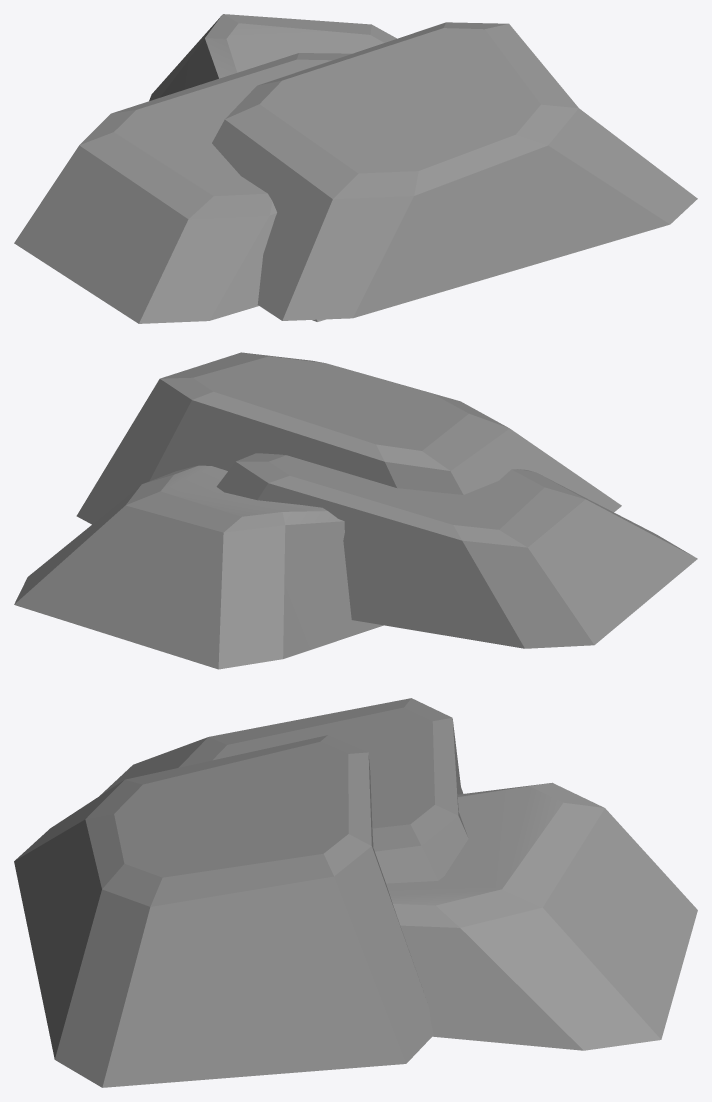
The model's file is RockPatch#5.fbx.
3 views of the same model, one above another, from view 1: azimuth 30°, elevation 25°; view 2: azimuth 150°, elevation 25°; view 3: azimuth 270°, elevation 25° (orthographic). The views are drawn at different scales.
Visible parts, largest first — view 1: RockPatch#5; view 2: RockPatch#5; view 3: RockPatch#5.
Part boxes in pixels (bbox=[...]): RockPatch#5: bbox=[14, 14, 697, 323]; RockPatch#5: bbox=[14, 352, 697, 669]; RockPatch#5: bbox=[14, 698, 697, 1087].
Size of the model in its own units: 1095 by 330 by 956.
